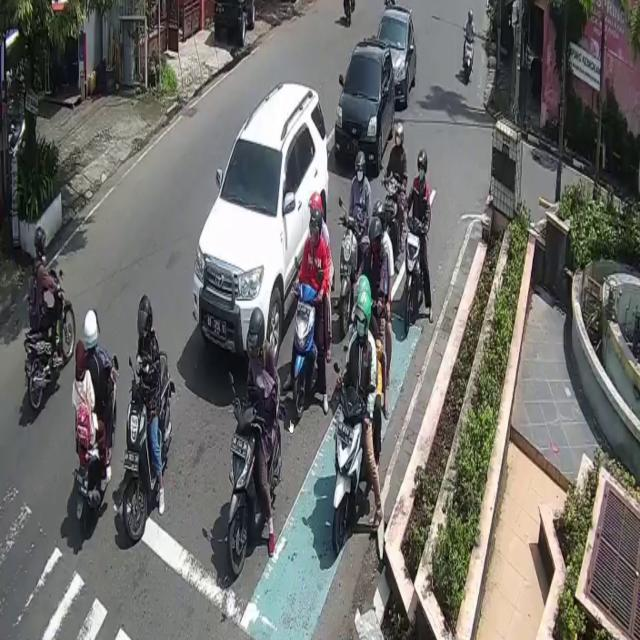bus: (228, 375, 280, 578), (128, 350, 174, 541), (24, 266, 76, 416), (75, 348, 116, 538), (334, 386, 366, 552), (296, 280, 318, 417), (404, 213, 426, 335), (338, 216, 358, 335), (464, 33, 473, 84)
motorcycle: (192, 80, 328, 374), (334, 39, 395, 177), (374, 5, 417, 107)
